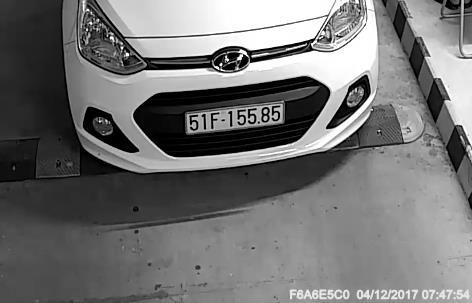License-plate: (181, 96, 296, 143)
